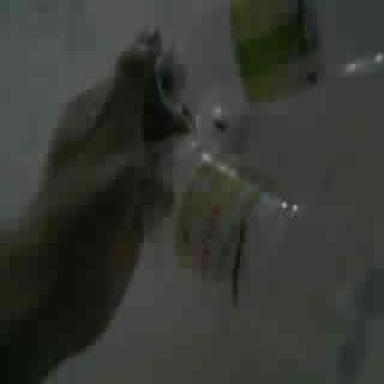bottle: (125, 135, 340, 344), (135, 0, 383, 132)
